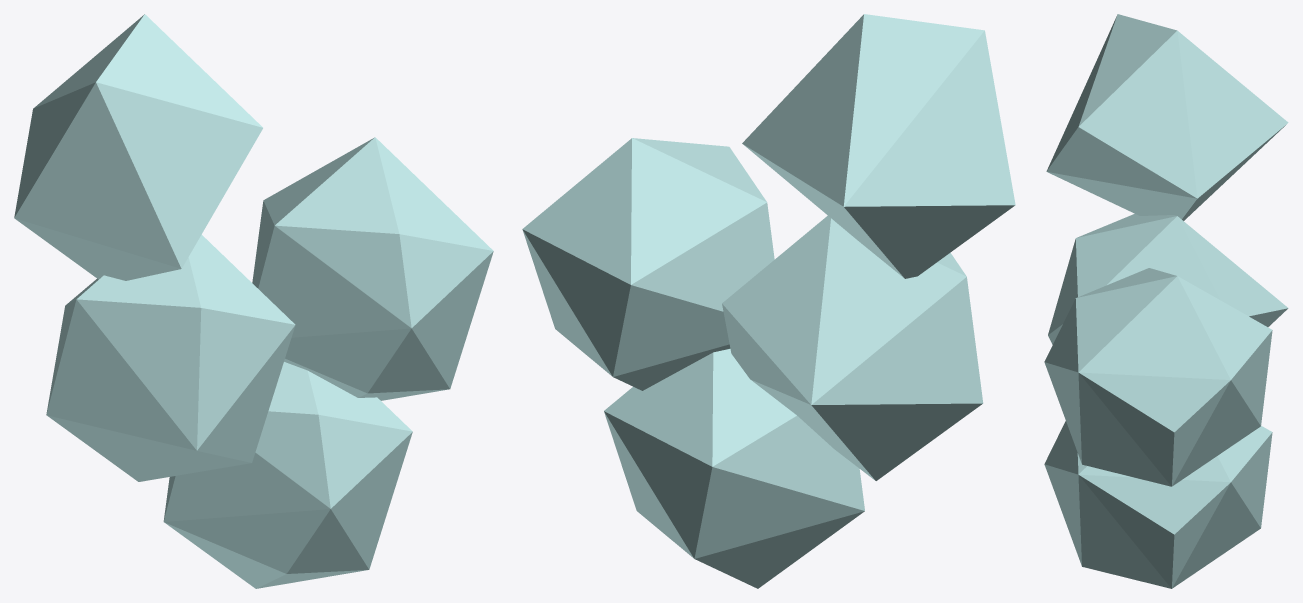
The model's file is cloud-002.glb.
3 views of the same model, side by side, from view 1: azimuth 30°, elevation 25°; view 2: azimuth 150°, elevation 25°; view 3: azimuth 270°, elevation 25° (orthographic). The views are drawn at different scales.
Visible parts, largest first — view 1: cloud 8_25; view 2: cloud 8_25; view 3: cloud 8_25.
Boxes of the visible parts, x1=… form: cloud 8_25: x1=14, y1=14, x2=493, y2=588; cloud 8_25: x1=522, y1=14, x2=1015, y2=588; cloud 8_25: x1=1044, y1=14, x2=1288, y2=588.
Bounding box in the file's own units: 1.06 × 1.28 × 0.5638.
